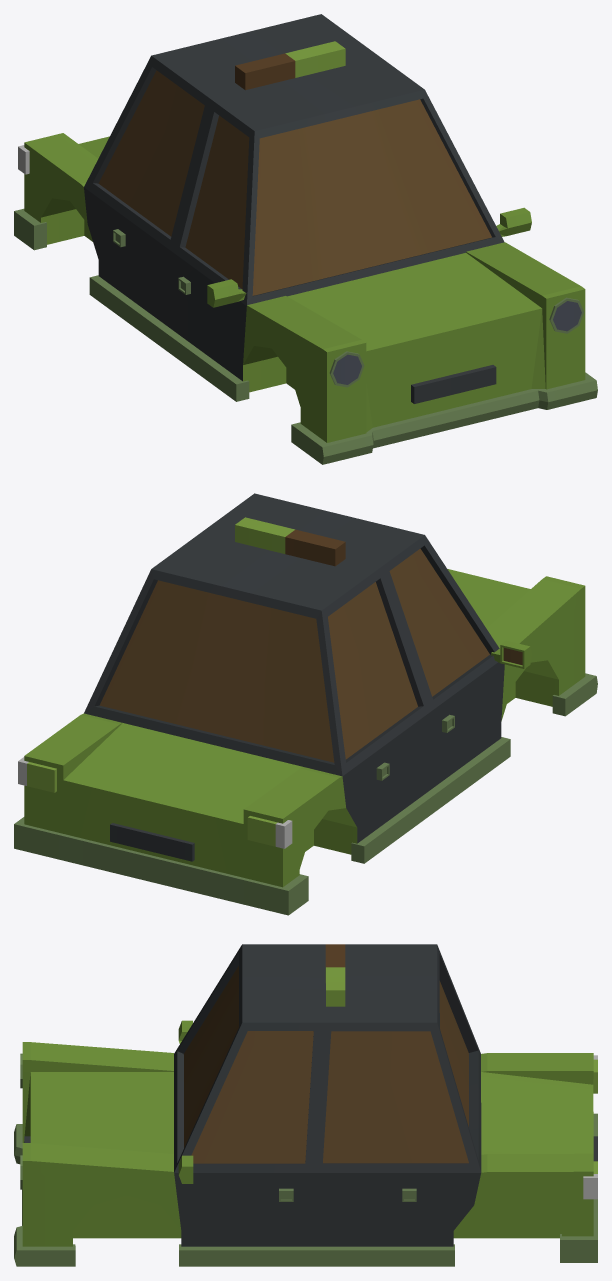
Rendered from Car_01.fbx.
The picture shows the model from 3 angles, top to bottom: view 1: azimuth 30°, elevation 25°; view 2: azimuth 150°, elevation 25°; view 3: azimuth 270°, elevation 25°; orthographic projection. The views are drawn at different scales.
Parts seen in each view (by area): view 1: Car_01; view 2: Car_01; view 3: Car_01.
Part boxes in pixels (left/top/right/bottom): Car_01: left=14, top=14, right=597, bottom=464; Car_01: left=14, top=493, right=597, bottom=915; Car_01: left=14, top=944, right=597, bottom=1266.
Bounding box in the file's own units: 1.97 × 1.49 × 3.33.
